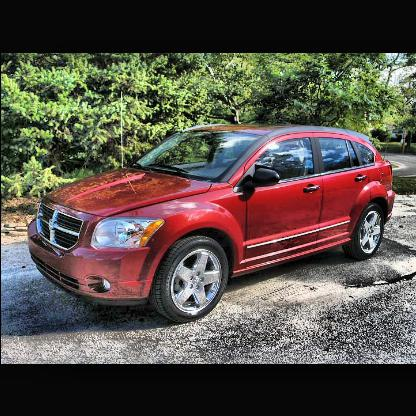Dodge Caliber Wagon 2007: (29, 126, 398, 325)
